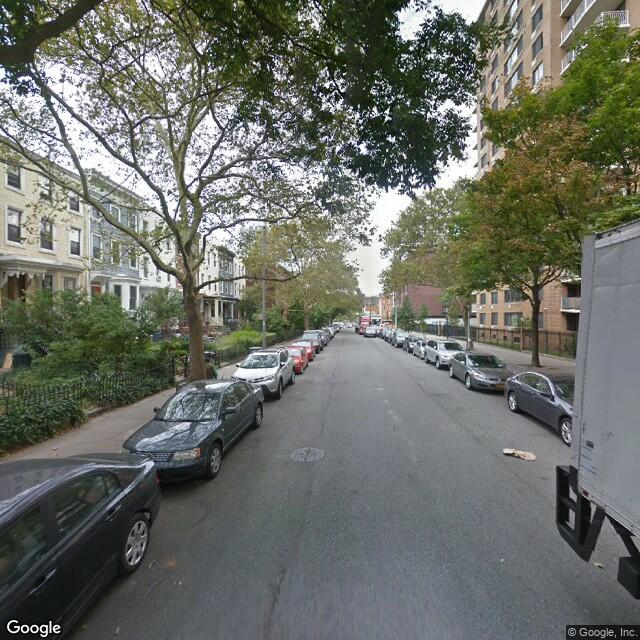litter: (501, 446, 538, 461)
